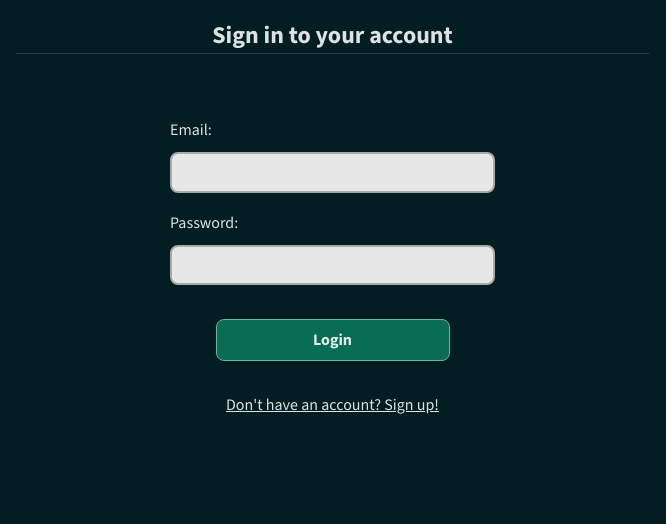
Test: Auth component › renders the signup page when the "Sign up!" button is clicked
Expected: the text "Create an account to get started!" is not shown
What coordinates should you click on to do the following:
click the button "Don't have an account? Sign up!"
I would click on:
 (332, 406)
Its box is [226, 394, 439, 418].
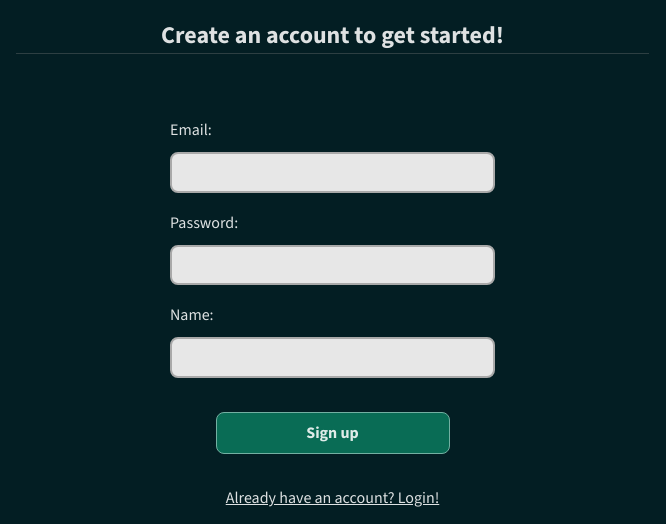
Result: the heading "Create an account to get started!" is shown at [16, 17, 649, 54]
